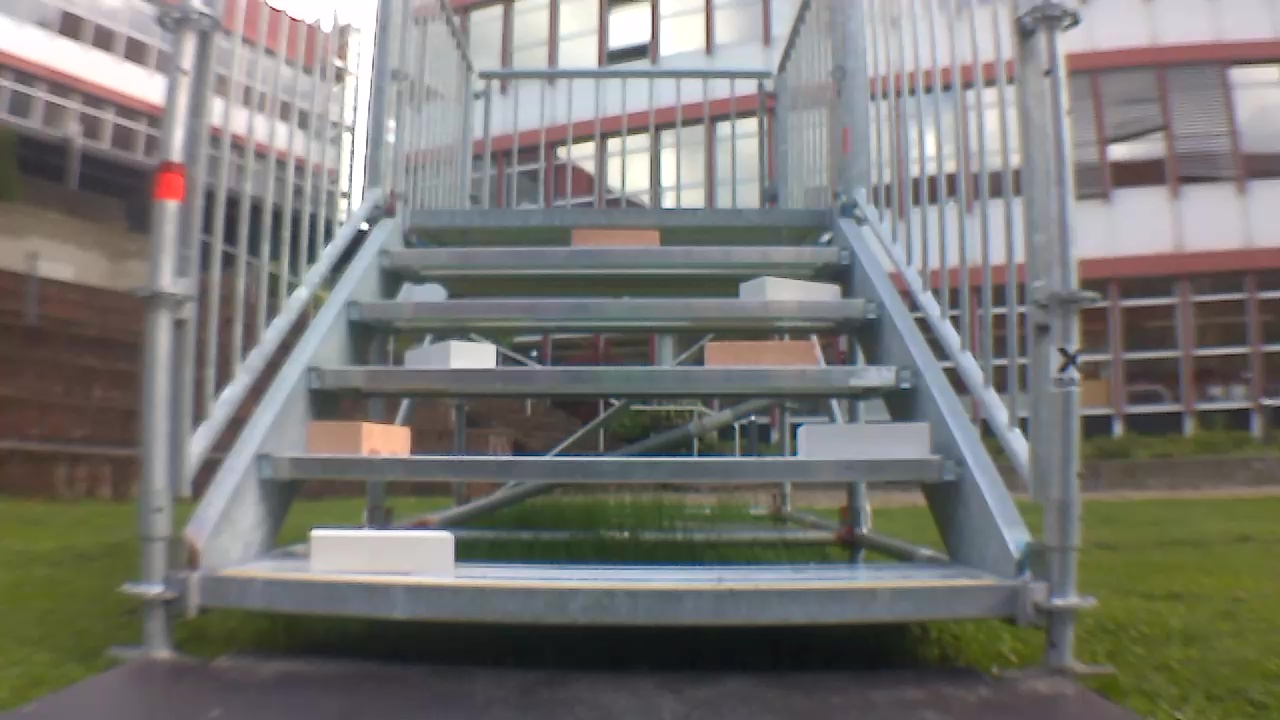brick: (314, 527, 460, 575), (796, 422, 930, 460), (308, 416, 414, 454), (700, 336, 818, 368), (738, 276, 847, 303), (399, 341, 504, 368), (568, 227, 663, 250)
edge: (195, 580, 1027, 615), (253, 456, 963, 479), (300, 365, 919, 389), (345, 298, 879, 322), (375, 246, 856, 268), (399, 208, 837, 227)
stairs: (133, 0, 1058, 657)
steps: (181, 208, 1026, 621)
